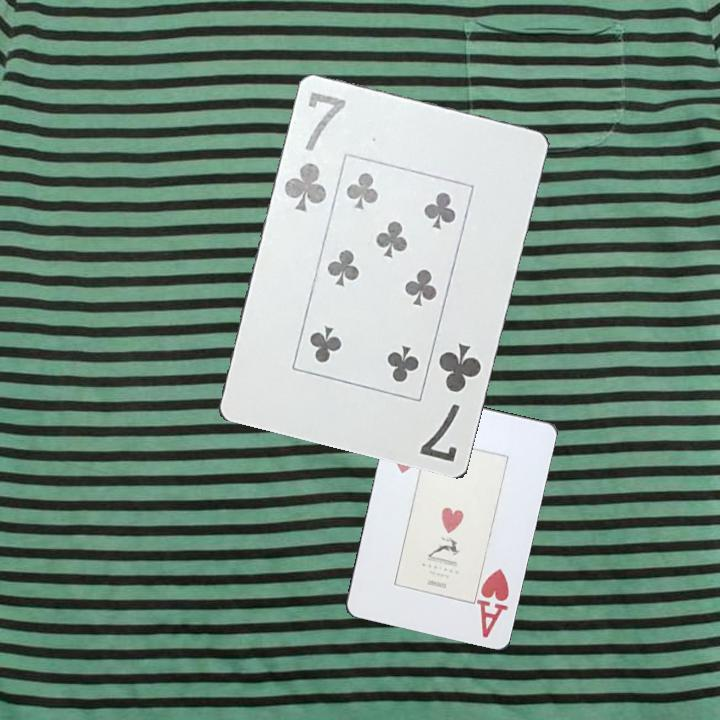7c: (280, 88, 350, 216), (416, 340, 485, 466)
Ah: (474, 564, 512, 640)
